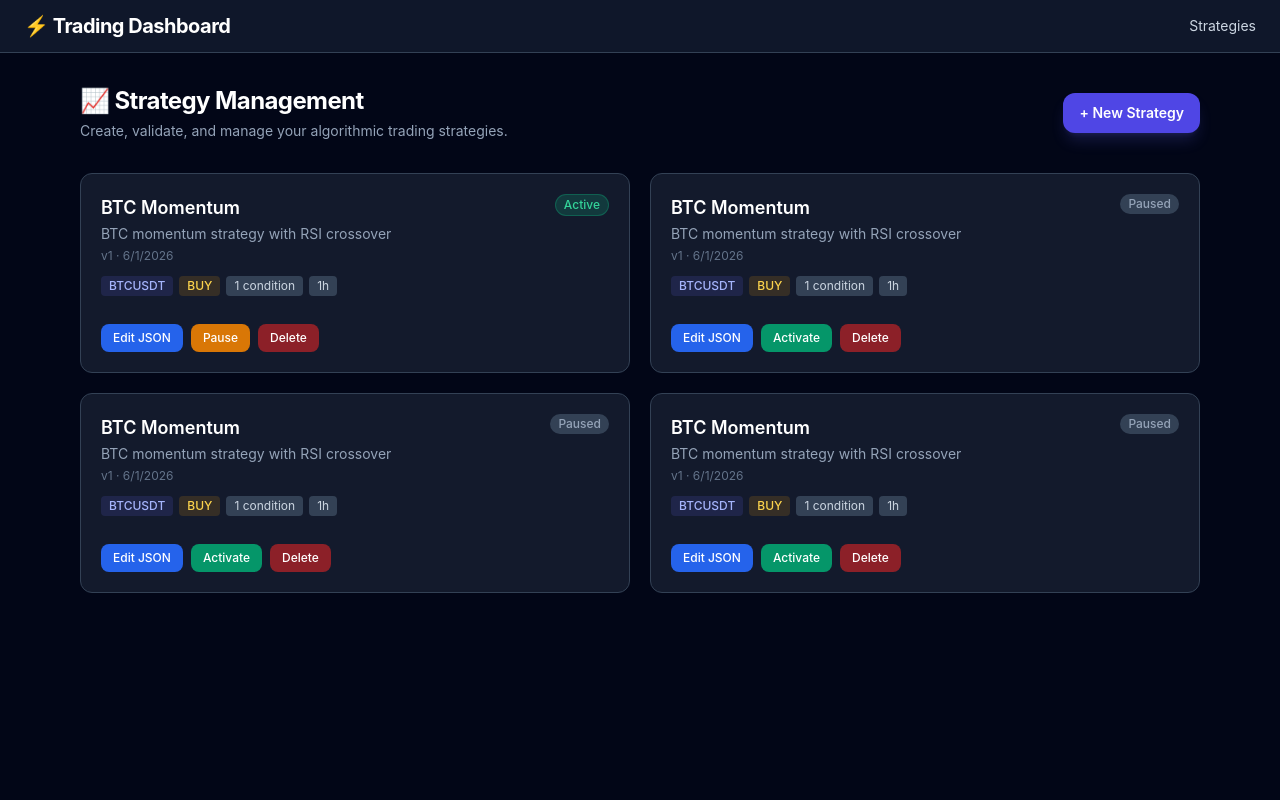
Test case: StrategiesPage – JSON Editor & Upload › shows the JSON editor textarea in the modal
This screenshot has width=1280, height=800.
Click the button "+ New Strategy".
click(1132, 113)  # box [1064,93,1200,133]
(page scrolled)
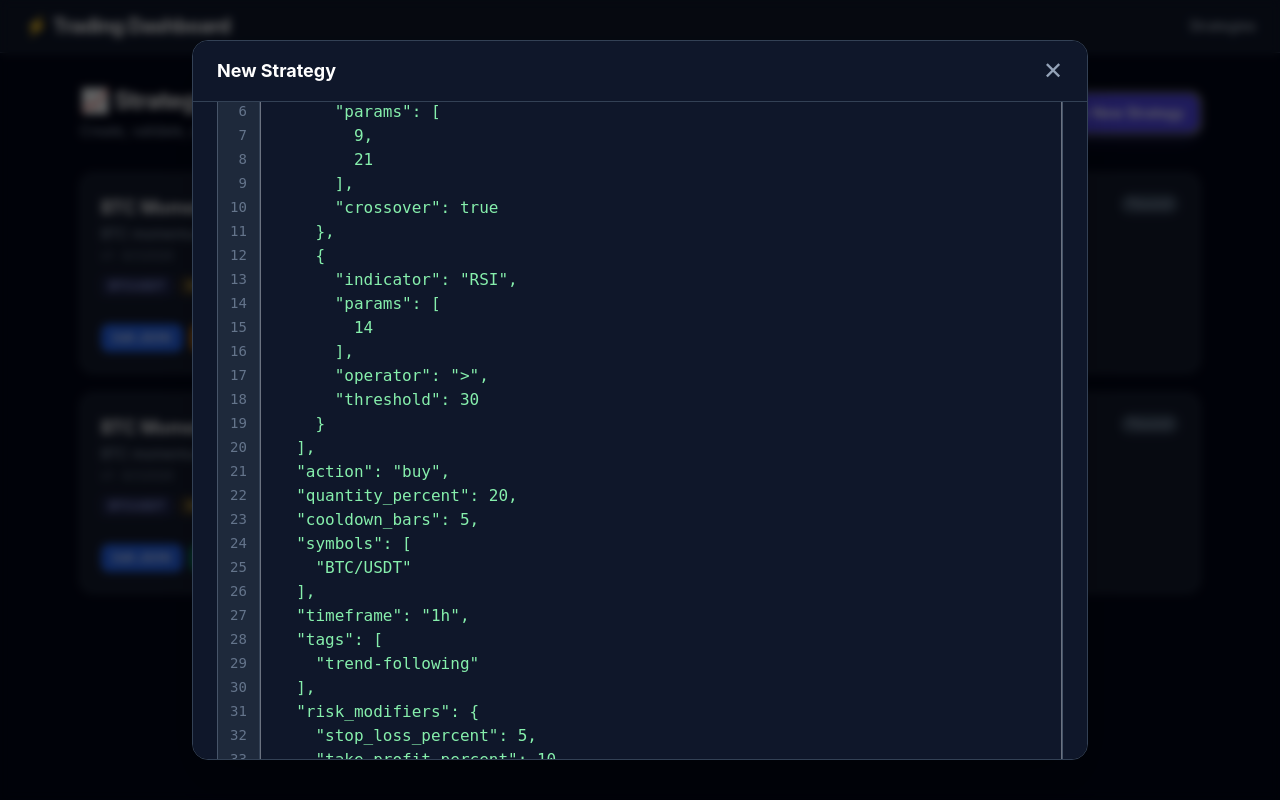
Expected: the text box is shown, [260,40,1062,760]
